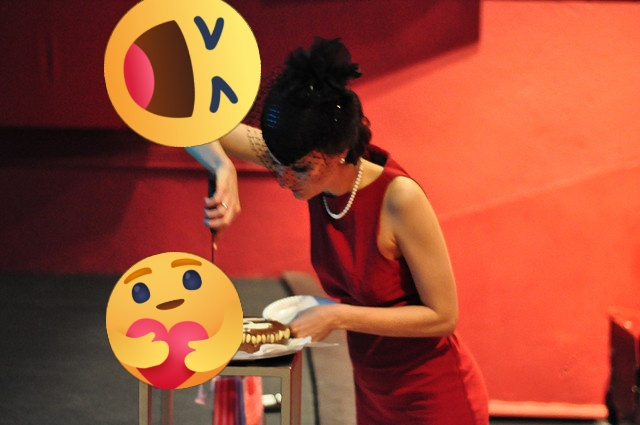care: (106, 252, 243, 389)
haha: (104, 0, 261, 147)
